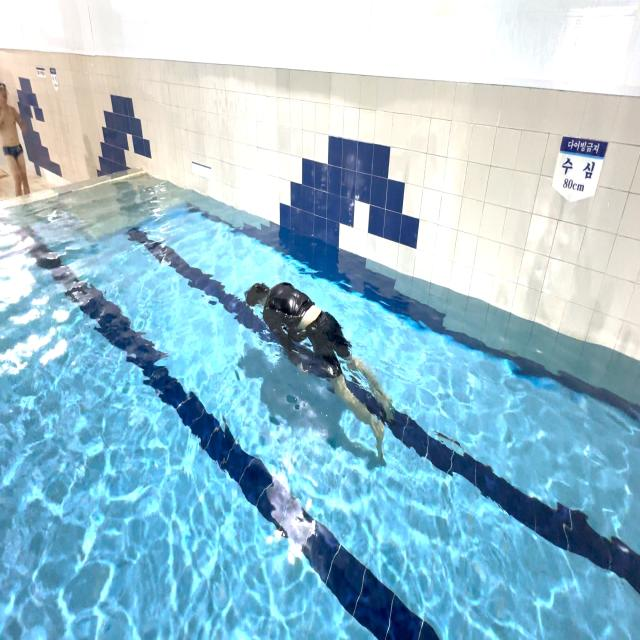Swimming: (238, 269, 404, 479)
